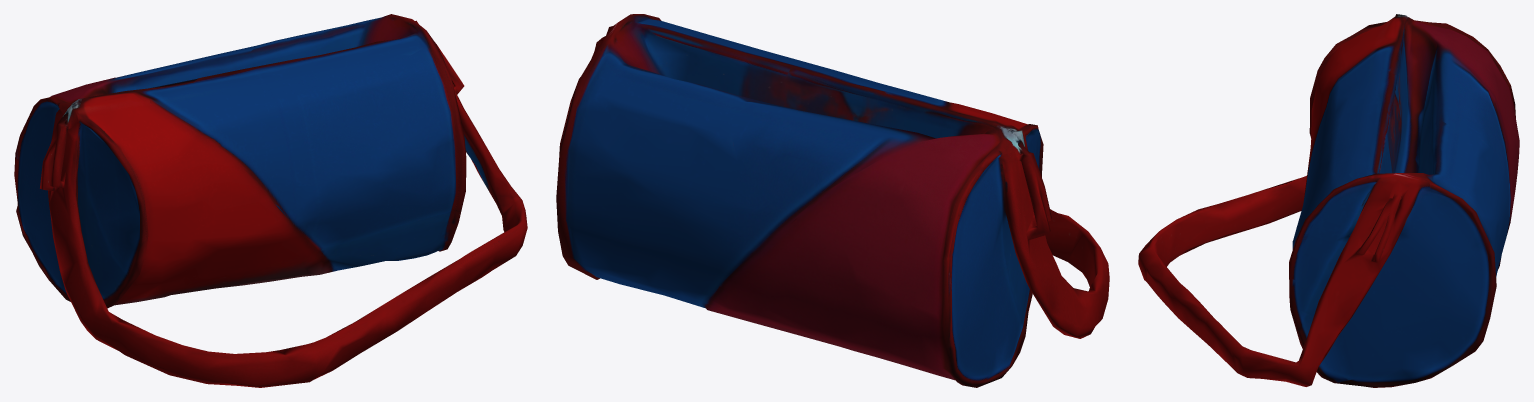
The model's file is zaino3_accessory.fbx.
3 views of the same model, side by side, from view 1: azimuth 30°, elevation 25°; view 2: azimuth 150°, elevation 25°; view 3: azimuth 270°, elevation 25° (orthographic). The views are drawn at different scales.
Parts seen in each view (by area): view 1: Zaino3Handle; view 2: Zaino3Handle; view 3: Zaino3Handle.
Boxes of the visible parts, <box> form: Zaino3Handle: <box>14,14,527,387</box>; Zaino3Handle: <box>556,14,1109,387</box>; Zaino3Handle: <box>1138,14,1519,387</box>.
Bounding box in the file's own units: 2.1 × 1.03 × 1.6.
Materials: 1 (1 with a texture image).
